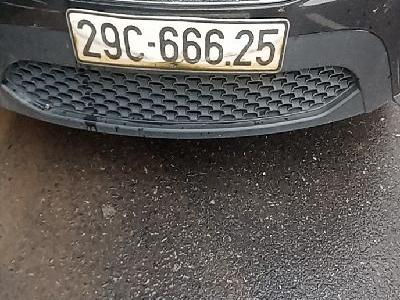car: (67, 7, 288, 77)
